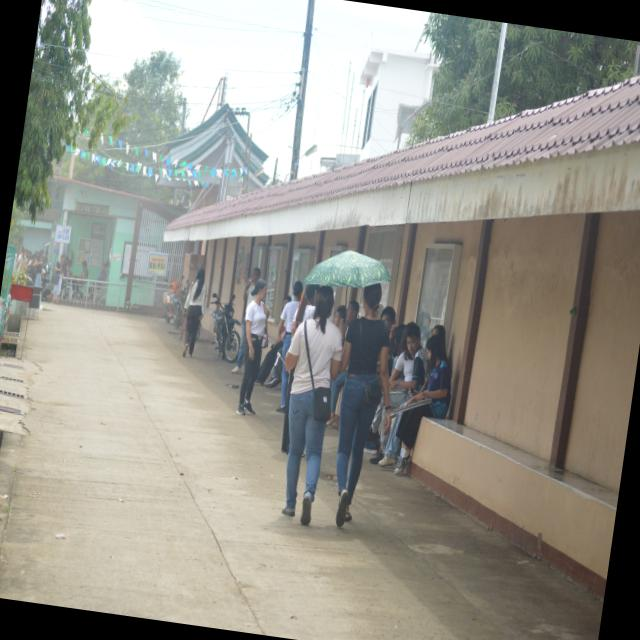person: (281, 286, 340, 524), (335, 283, 389, 527), (394, 335, 450, 475), (235, 279, 269, 415), (276, 301, 298, 412), (182, 269, 206, 356), (326, 371, 346, 427), (231, 316, 245, 374)
